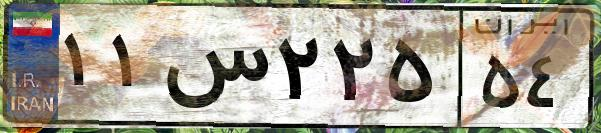1: (57, 26, 110, 100), (110, 28, 158, 98)
2: (270, 28, 330, 110), (330, 28, 385, 110)
4: (525, 38, 570, 115)
5: (385, 28, 445, 110), (475, 38, 525, 113)
س: (158, 20, 270, 120)
